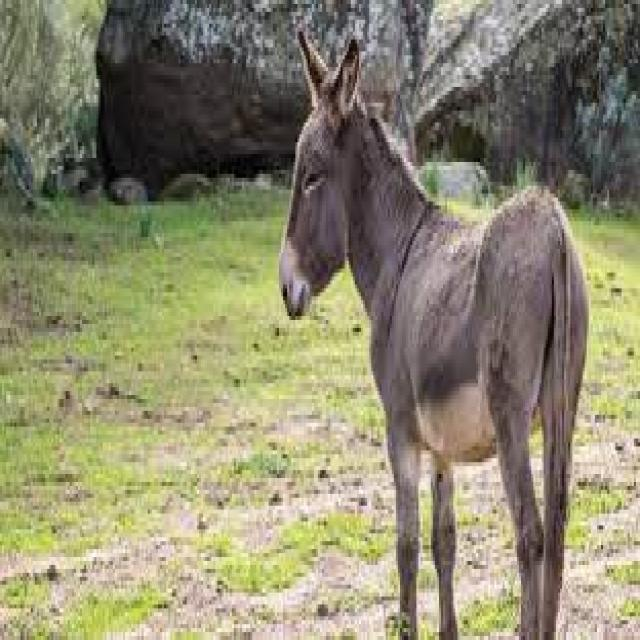Donkey: (234, 47, 640, 593)
